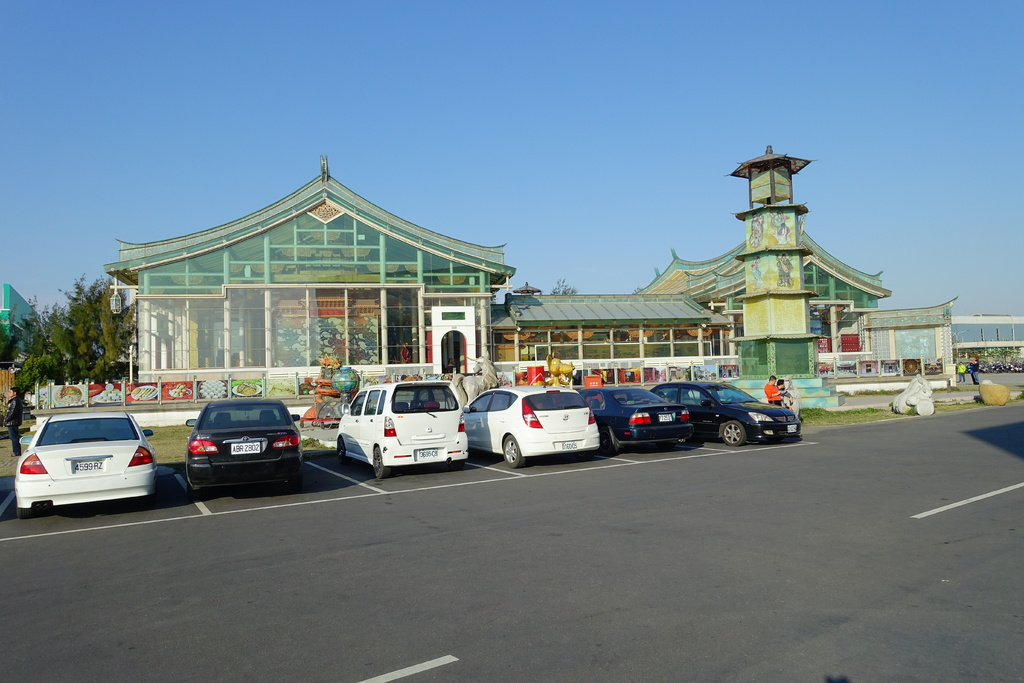Car: (15, 406, 158, 516), (336, 375, 473, 477), (456, 385, 593, 472), (652, 378, 803, 446), (186, 399, 302, 485), (581, 385, 698, 456)
